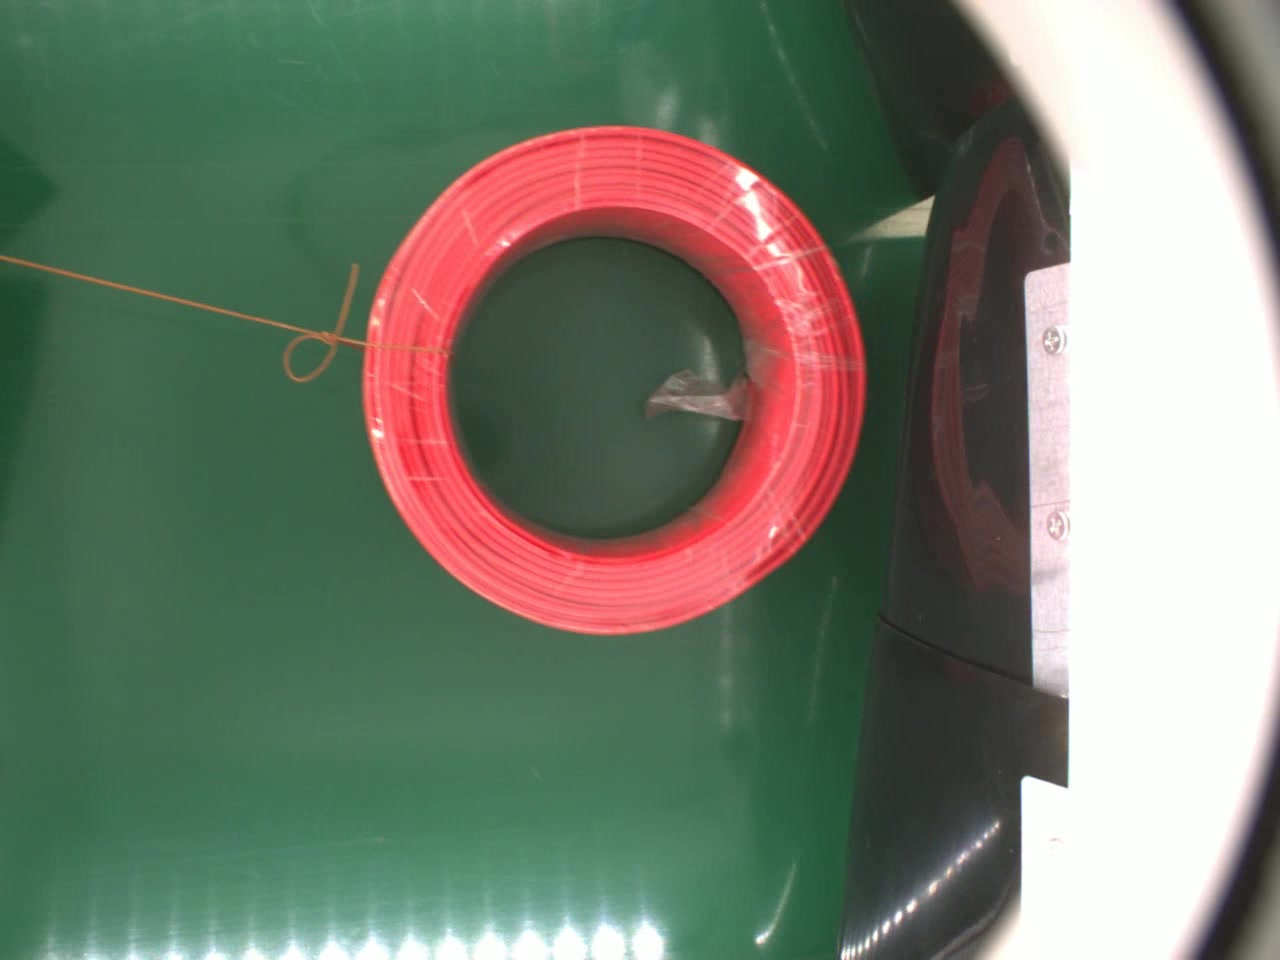red: (357, 124, 862, 639)
